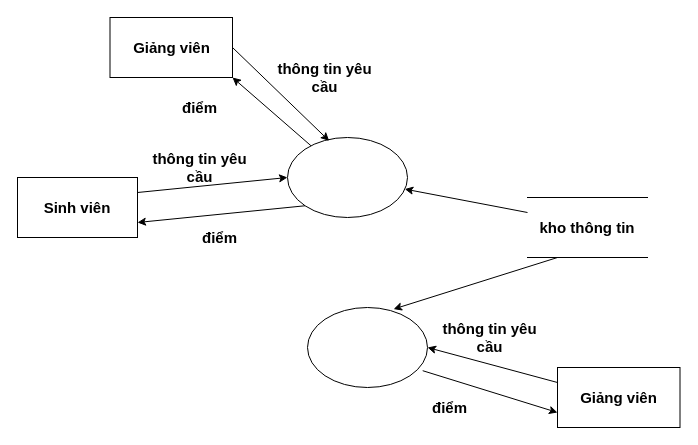
The diagram is 698 pixels wide and 445 high, and some of its shapes have lost their labels. Each missing label, with the centre of its shape:
Xem điểm sinh viên: point (347, 177)
Xem điểm theo danh sách: point (367, 347)
